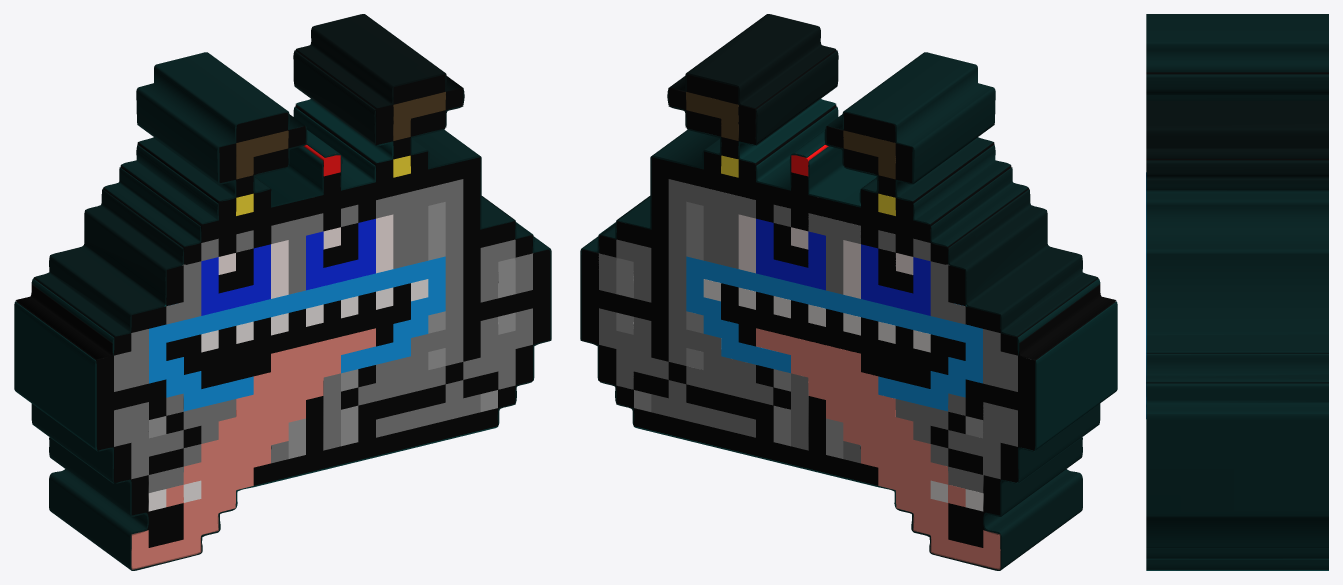
The model's file is Toadz_3796.glb.
3 views of the same model, side by side, from view 1: azimuth 30°, elevation 25°; view 2: azimuth 150°, elevation 25°; view 3: azimuth 270°, elevation 25° (orthographic). The views are drawn at different scales.
Visible parts, largest first — view 1: Curve; view 2: Curve; view 3: Curve.
Part boxes in pixels (<box>): Curve: <box>14,14,551,570</box>; Curve: <box>580,14,1117,570</box>; Curve: <box>1146,14,1328,570</box>.
Size of the model in its own units: 3.25 by 2.88 by 1.
